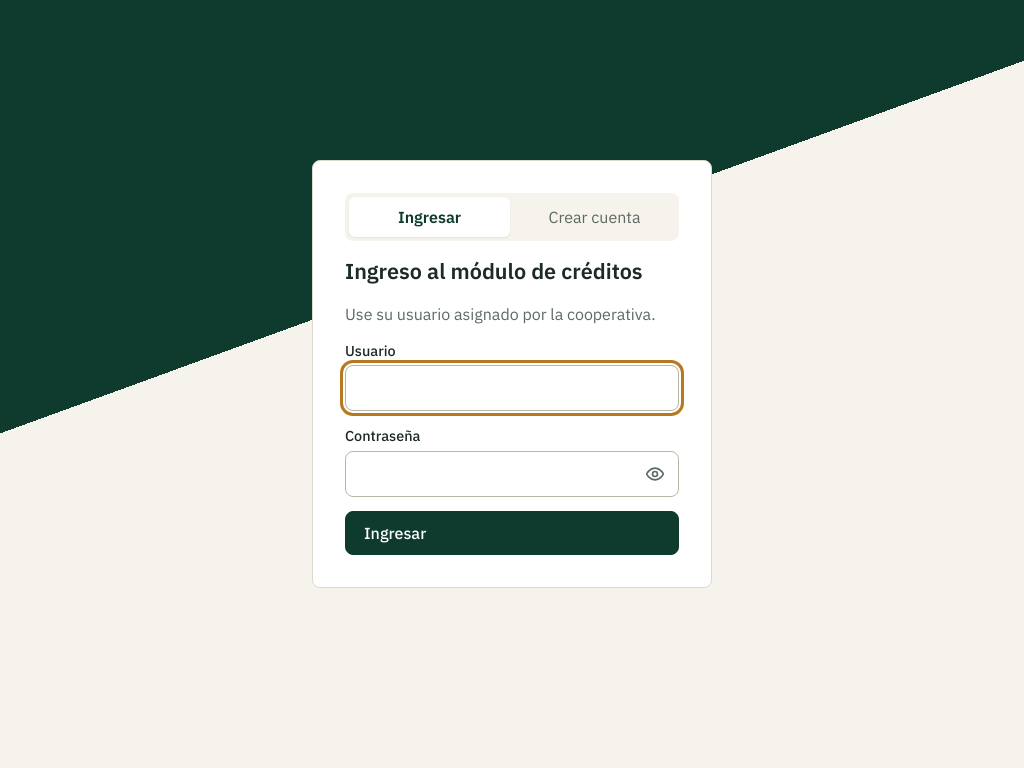
registro › rechaza una contraseña que no cumple los requisitos
Click the button "Crear cuenta" at (594, 217), box [514,197,675,237]
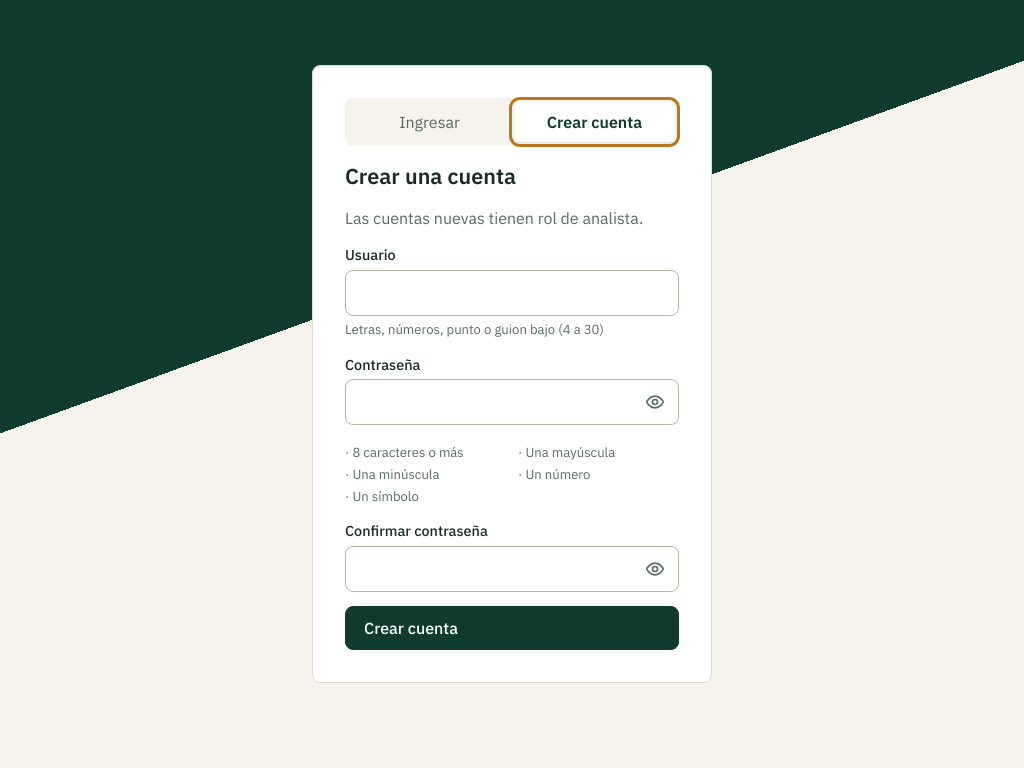
Type "maria.lopez" into the field labelled "Usuario" at (512, 293), box [345,270,679,316]
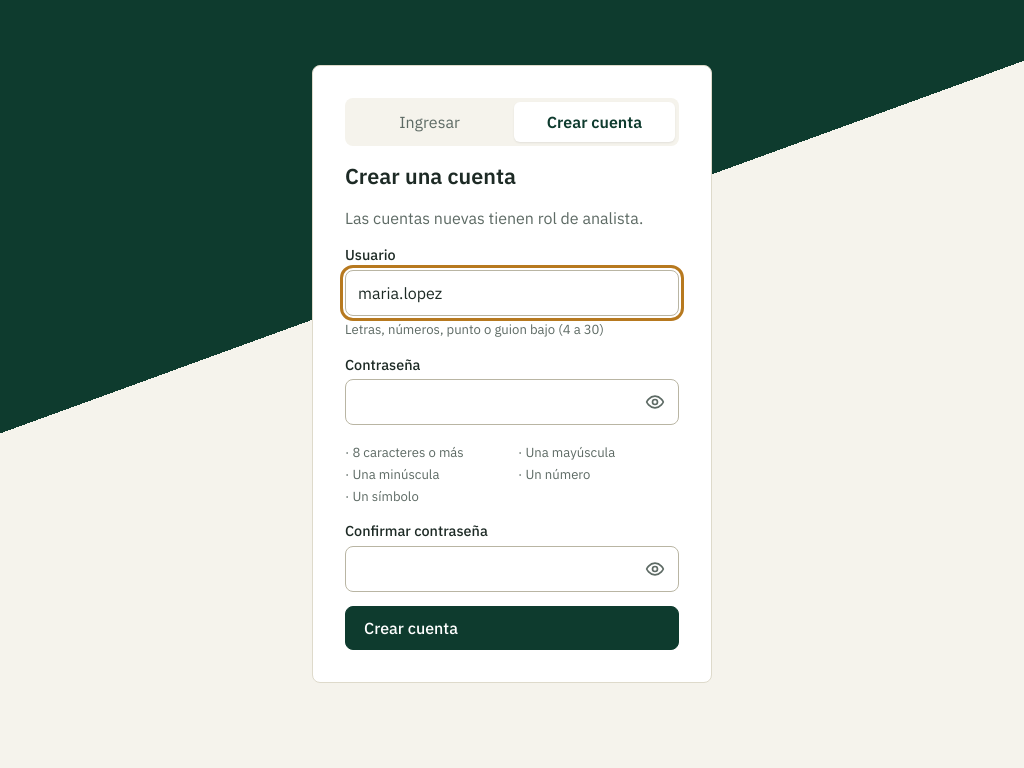
Type "debil" into the password field labelled "Contraseña" at (512, 402), box [345,379,679,425]
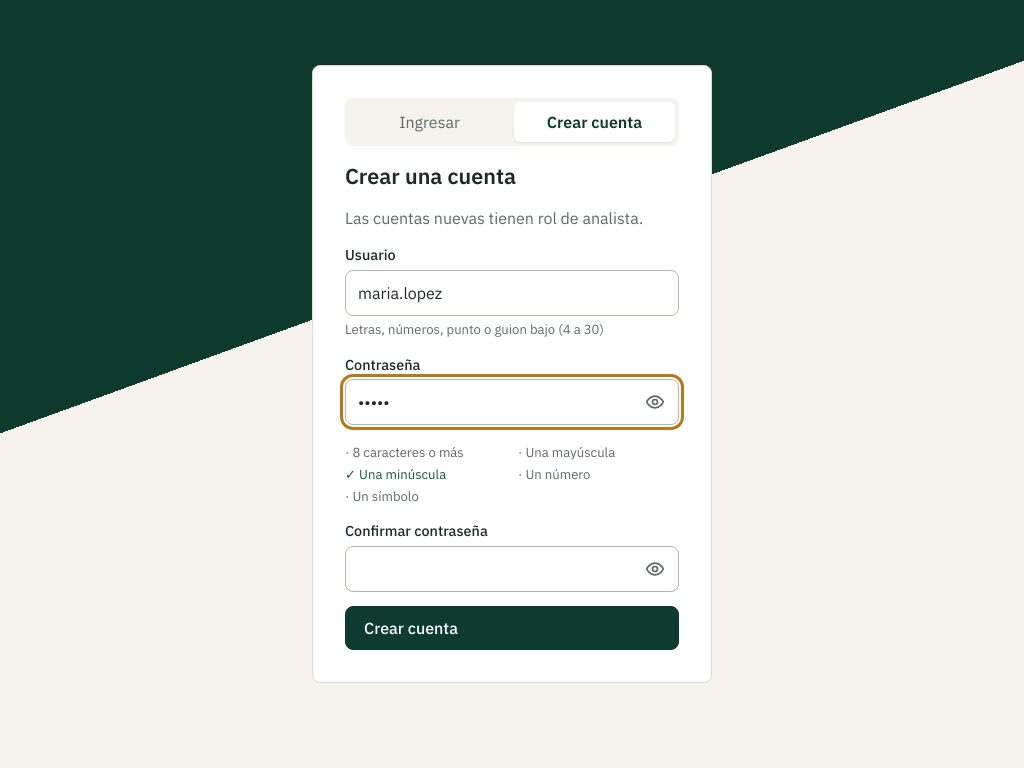
Type "debil" into the password field labelled "Confirmar contraseña" at (512, 569), box [345,546,679,592]
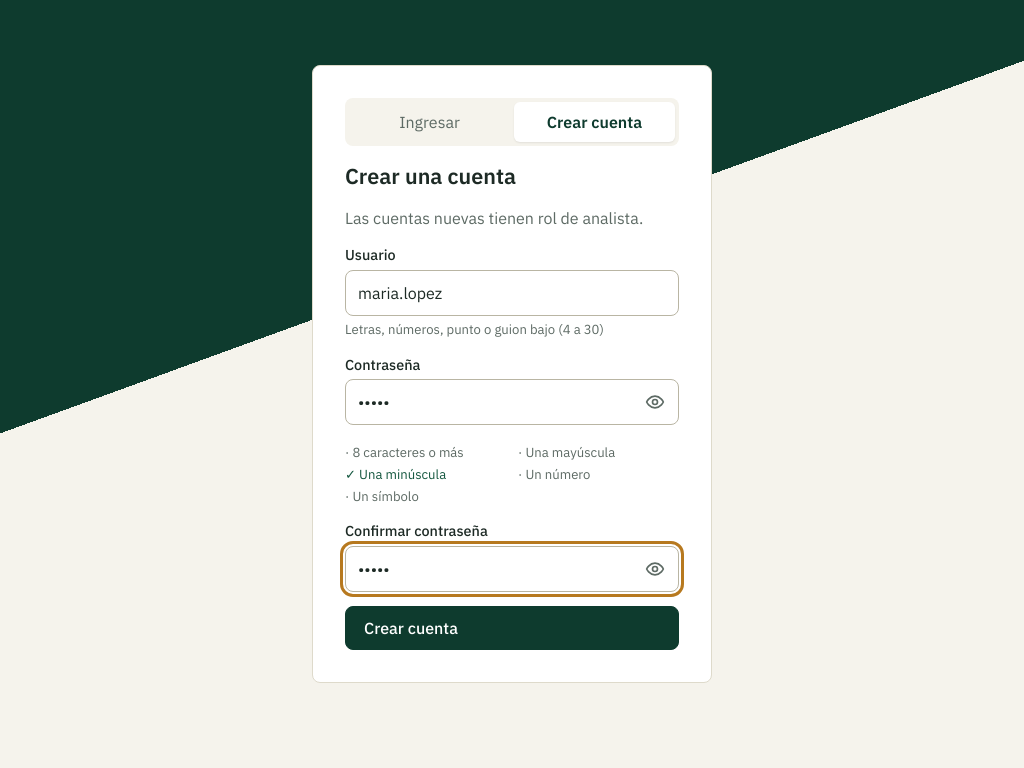
Click the 2nd button "Crear cuenta" at (411, 628), box [345,606,679,650]
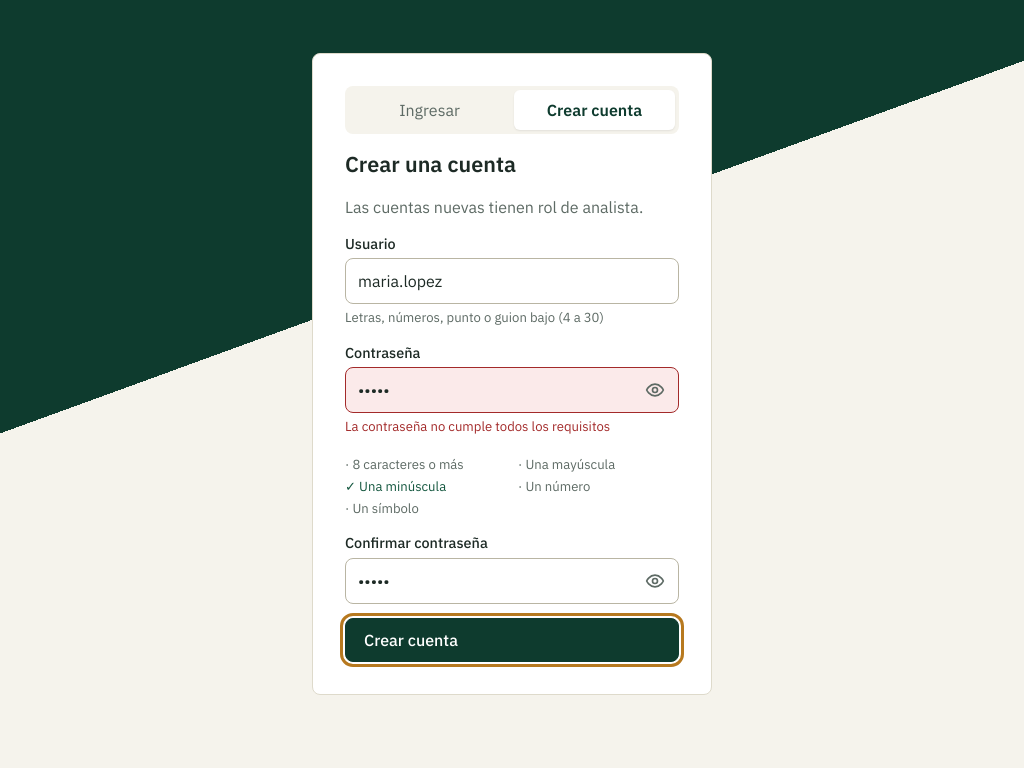
Now the text "La contraseña no cumple todos los requisitos" is shown, box [345,418,610,436]
